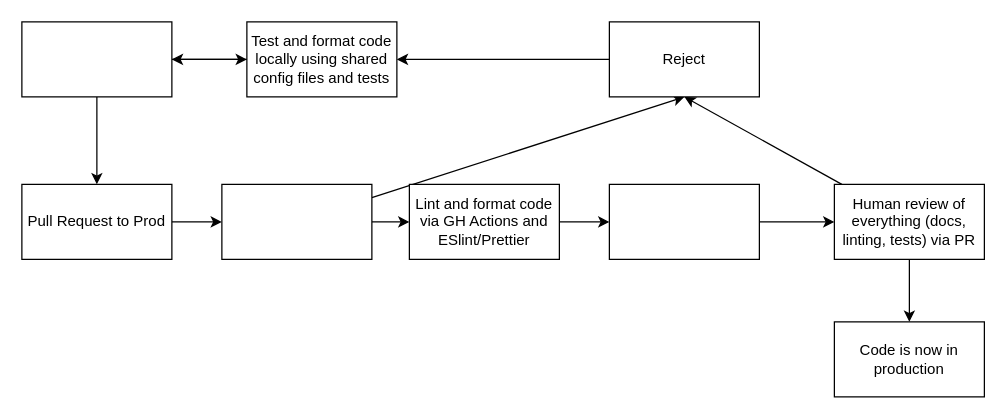
Image size: 1006x419. Some labels were removed from this diagram. The centre of each missing label's shape, as x and y in pixels:
"Generate Documentation via GH Actions and JSDocs" belongs at (683,221).
"Push Code" belongs at (96,59).
"Retest code via GH Actions and Jest" belongs at (296,221).
